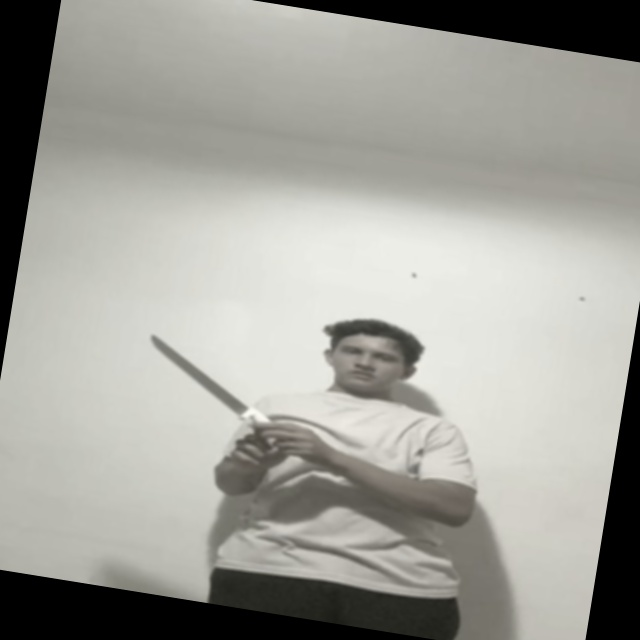Sharp-Object: (139, 334, 255, 414)
